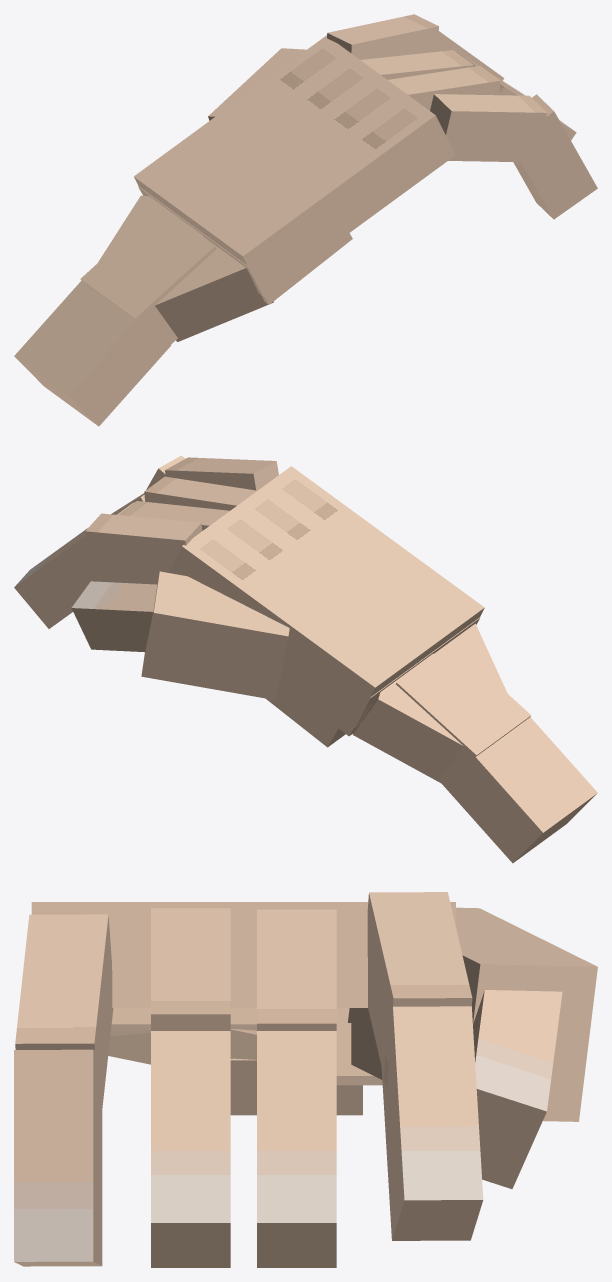
File: hand_break.glb
3 renders of one model, top to bottom at view 1: azimuth 30°, elevation 25°; view 2: azimuth 150°, elevation 25°; view 3: azimuth 270°, elevation 25°, orthographic. The views are drawn at different scales.
Visible parts, largest first — view 1: group4, group2, group3, group; view 2: group4, group, group3, group2; view 3: group4, group3, group2, group.
Boxes of the visible parts, left/top/right/bottom form: group4: left=14, top=35, right=576, bottom=426; group2: left=430, top=94, right=597, bottom=219; group3: left=327, top=14, right=504, bottom=80; group: left=208, top=48, right=306, bottom=120; group4: left=111, top=466, right=597, bottom=863; group: left=71, top=571, right=289, bottom=700; group3: left=14, top=513, right=202, bottom=628; group2: left=146, top=455, right=278, bottom=490; group4: left=31, top=902, right=455, bottom=1267; group3: left=367, top=892, right=483, bottom=1240; group2: left=14, top=914, right=113, bottom=1266; group: left=347, top=907, right=597, bottom=1188.
Bounding box in the file's own units: 2.69 × 1.34 × 1.38.
Materials: 1 (1 with a texture image).
